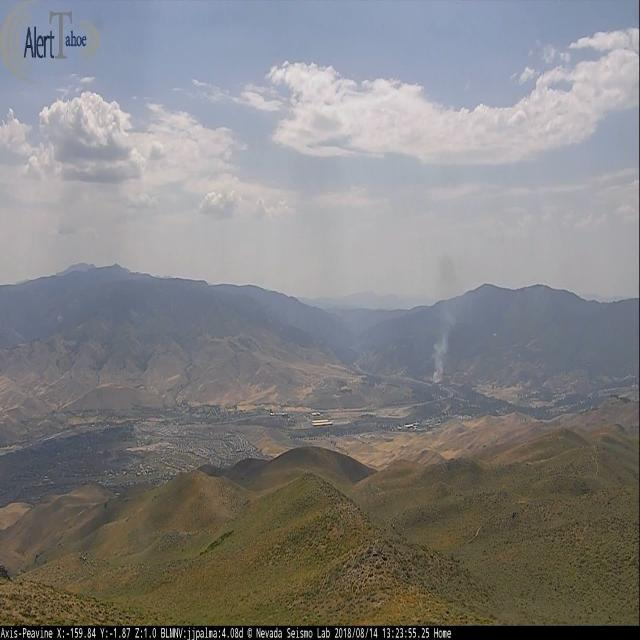smoke: (432, 257, 457, 384)
